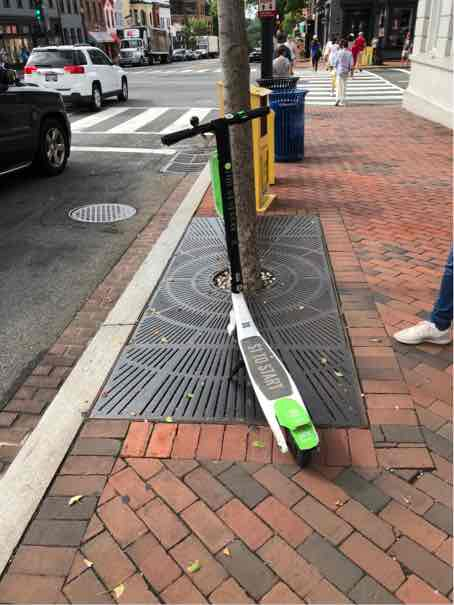scooter: (149, 103, 337, 475)
